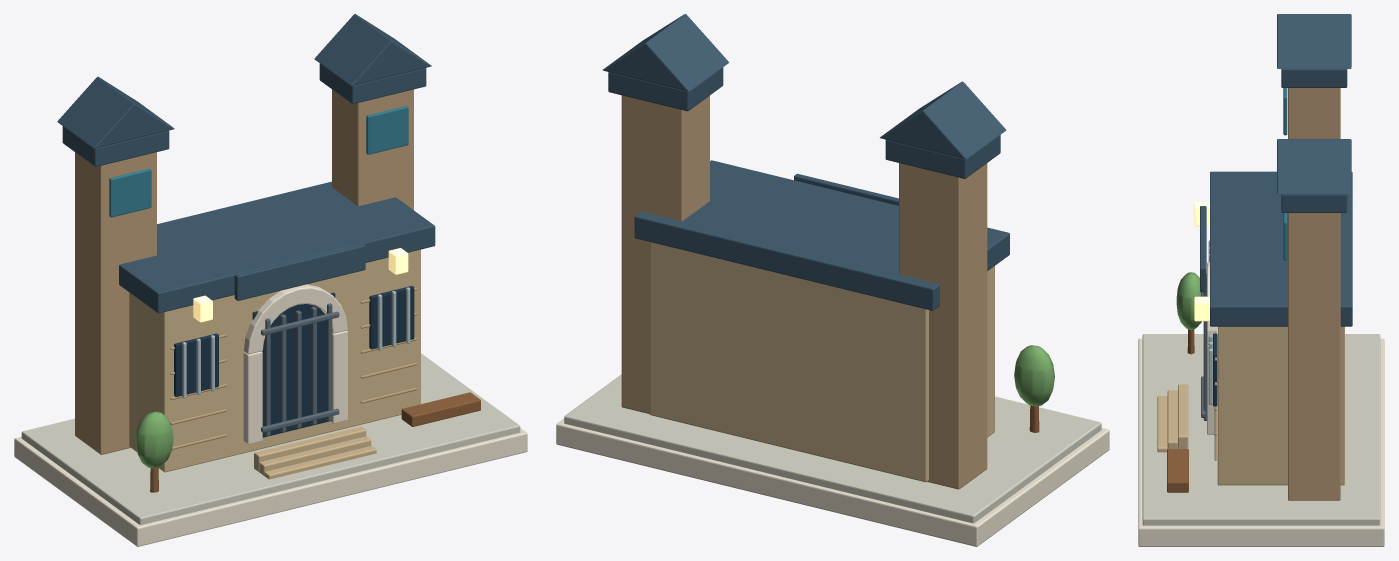
Rendered from jail.glb.
3 views of the same model, side by side, from view 1: azimuth 30°, elevation 25°; view 2: azimuth 150°, elevation 25°; view 3: azimuth 270°, elevation 25° (orthographic). The views are drawn at different scales.
Parts seen in each view (by area): view 1: Jail; view 2: Jail; view 3: Jail.
Boxes of the visible parts, x1,y1,x2,y2 form: Jail: (14,14,527,546); Jail: (556,14,1109,546); Jail: (1138,14,1384,546).
Size of the model in its own units: 1.47 by 1.36 by 0.8064.
